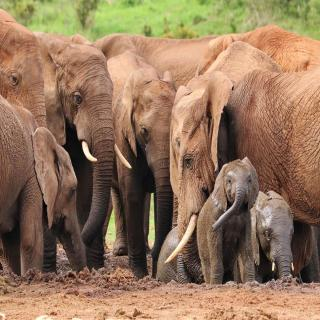Elephant: (176, 66, 320, 252), (37, 22, 133, 275), (0, 93, 97, 292), (109, 47, 168, 315), (198, 157, 260, 288), (252, 185, 306, 288)
